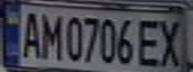0: (63, 12, 84, 62), (100, 15, 118, 65)
6: (115, 16, 139, 66)
7: (81, 13, 100, 64)
A: (18, 9, 45, 60)
E: (136, 16, 166, 69)
M: (36, 10, 63, 61)
X: (154, 15, 190, 69)
